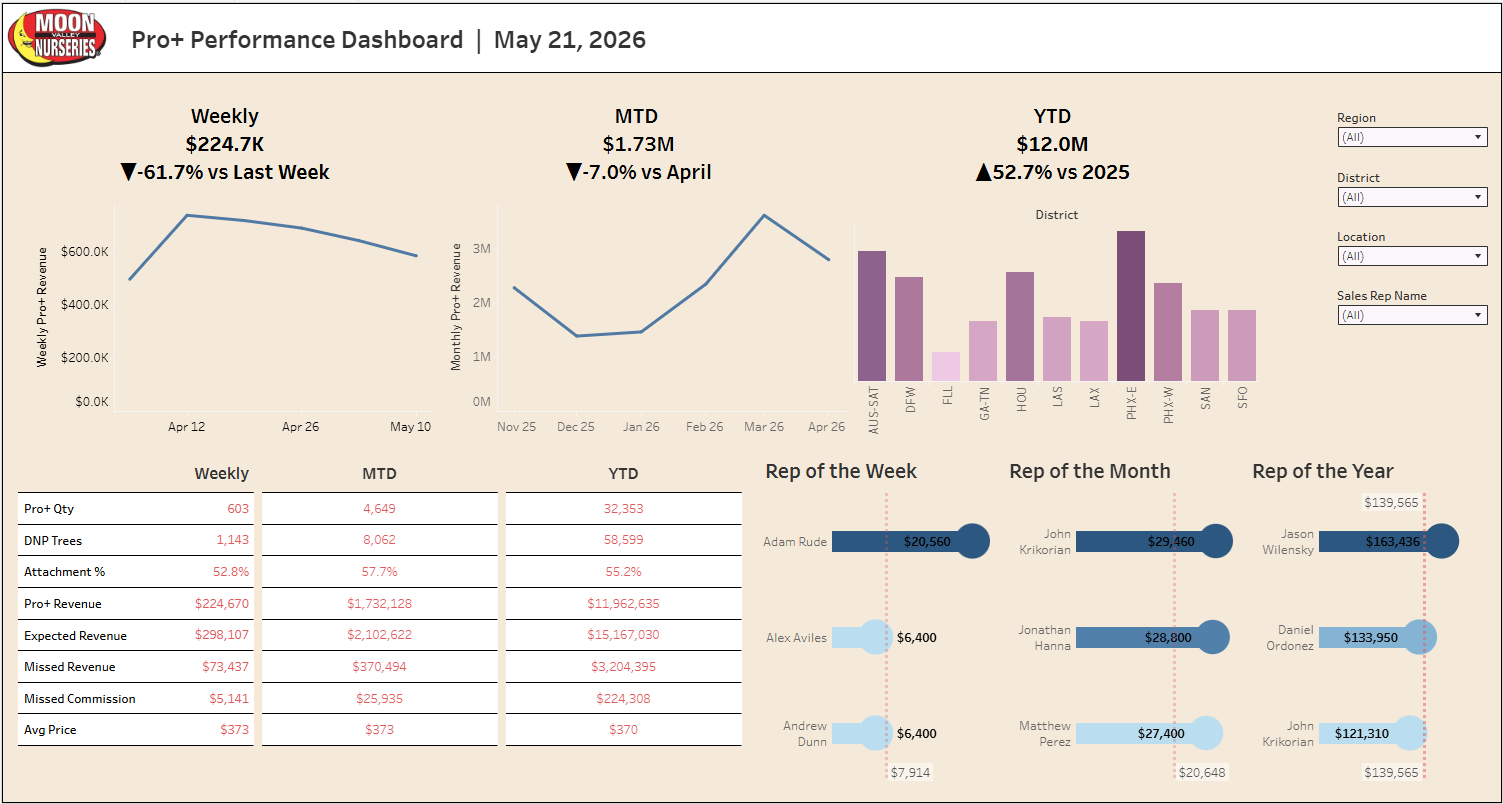

The page's visual inventory and layout, read from the dashboard file:
{"tool":"tableau","page":{"name":"Pro+ Dash","canvas":[1500,800],"ordinal":0},"visuals":[{"type":"image","param":"Image/mvnlogo.webp","box":[0,0,120,70]},{"type":"worksheet","title":"Dashboard Title","mark":"Text","rows":["Calculation_0014091221725216"],"box":[120,0,1380,70]},{"type":"worksheet","title":"Weekly KPI","mark":"Automatic","box":[20,88,414,99]},{"type":"worksheet","title":"MTD KPI","mark":"Automatic","box":[434,88,414,97]},{"type":"worksheet","title":"YTD KPI","mark":"Automatic","box":[848,88,414,99]},{"type":"filter","title":"MTD","param":"[sqlproxy.071m9ym02l6rqm0zlif2f087p6ab].[none:region:nk]","box":[1331,101,160,60]},{"type":"filter","title":"MTD","param":"[sqlproxy.071m9ym02l6rqm0zlif2f087p6ab].[none:district:nk]","box":[1331,161,160,59]},{"type":"worksheet","title":"Weekly Chart","mark":"Automatic","rows":["Calculation_0013885447106573"],"cols":["Date (copy)_0833156963381248"],"box":[20,197,414,245]},{"type":"worksheet","title":"Monthly Chart","mark":"Automatic","rows":["Calculation_0013885434605573"],"cols":["date_dt"],"box":[434,197,414,245]},{"type":"worksheet","title":"YTD Chart","mark":"Automatic","rows":["Calculation_0014022215200785"],"cols":["district"],"box":[848,197,414,245]},{"type":"filter","title":"MTD","param":"[sqlproxy.071m9ym02l6rqm0zlif2f087p6ab].[none:location:nk]","box":[1331,220,160,59]},{"type":"filter","title":"MTD","param":"[sqlproxy.071m9ym02l6rqm0zlif2f087p6ab].[none:sales_rep_name:nk]","box":[1331,279,160,59]},{"type":"worksheet","title":"Rep of the Week","mark":"Automatic","rows":["sales_rep_name"],"cols":["Calculation_0014090890489910","Calculation_0014090890489910"],"box":[755,443,244,339]},{"type":"worksheet","title":"Rep of the Month","mark":"Bar","rows":["sales_rep_name"],"cols":["Calculation_0014090875813929","Calculation_0014090875813929"],"box":[999,443,243,339]},{"type":"worksheet","title":"Rep of the Year","mark":"Circle","rows":["sales_rep_name"],"cols":["Calculation_0014022215200785","Calculation_0014022215200785"],"box":[1242,443,243,339]},{"type":"worksheet","title":"Weekly","mark":"Text","box":[12,447,244,300]},{"type":"worksheet","title":"MTD","mark":"Automatic","box":[256,447,244,300]},{"type":"worksheet","title":"YTD","mark":"Automatic","box":[500,447,244,300]}]}

Visuals, with their boxes in screenshot pixels (x1, y1, x2, y2), scaled from the page's 1500x800 canvas onto the 1503x804 screenshot:
image: left=0, top=0, right=120, bottom=70
"Dashboard Title" worksheet (Text marks): left=120, top=0, right=1502, bottom=70
"Weekly KPI" worksheet: left=20, top=88, right=435, bottom=188
"MTD KPI" worksheet: left=435, top=88, right=850, bottom=186
"YTD KPI" worksheet: left=850, top=88, right=1265, bottom=188
"MTD" filter: left=1334, top=102, right=1494, bottom=162
"MTD" filter: left=1334, top=162, right=1494, bottom=221
"Weekly Chart" worksheet: left=20, top=198, right=435, bottom=444
"Monthly Chart" worksheet: left=435, top=198, right=850, bottom=444
"YTD Chart" worksheet: left=850, top=198, right=1265, bottom=444
"MTD" filter: left=1334, top=221, right=1494, bottom=280
"MTD" filter: left=1334, top=280, right=1494, bottom=340
"Rep of the Week" worksheet: left=757, top=445, right=1001, bottom=786
"Rep of the Month" worksheet (Bar marks): left=1001, top=445, right=1244, bottom=786
"Rep of the Year" worksheet (Circle marks): left=1244, top=445, right=1488, bottom=786
"Weekly" worksheet (Text marks): left=12, top=449, right=257, bottom=751
"MTD" worksheet: left=257, top=449, right=501, bottom=751
"YTD" worksheet: left=501, top=449, right=745, bottom=751
